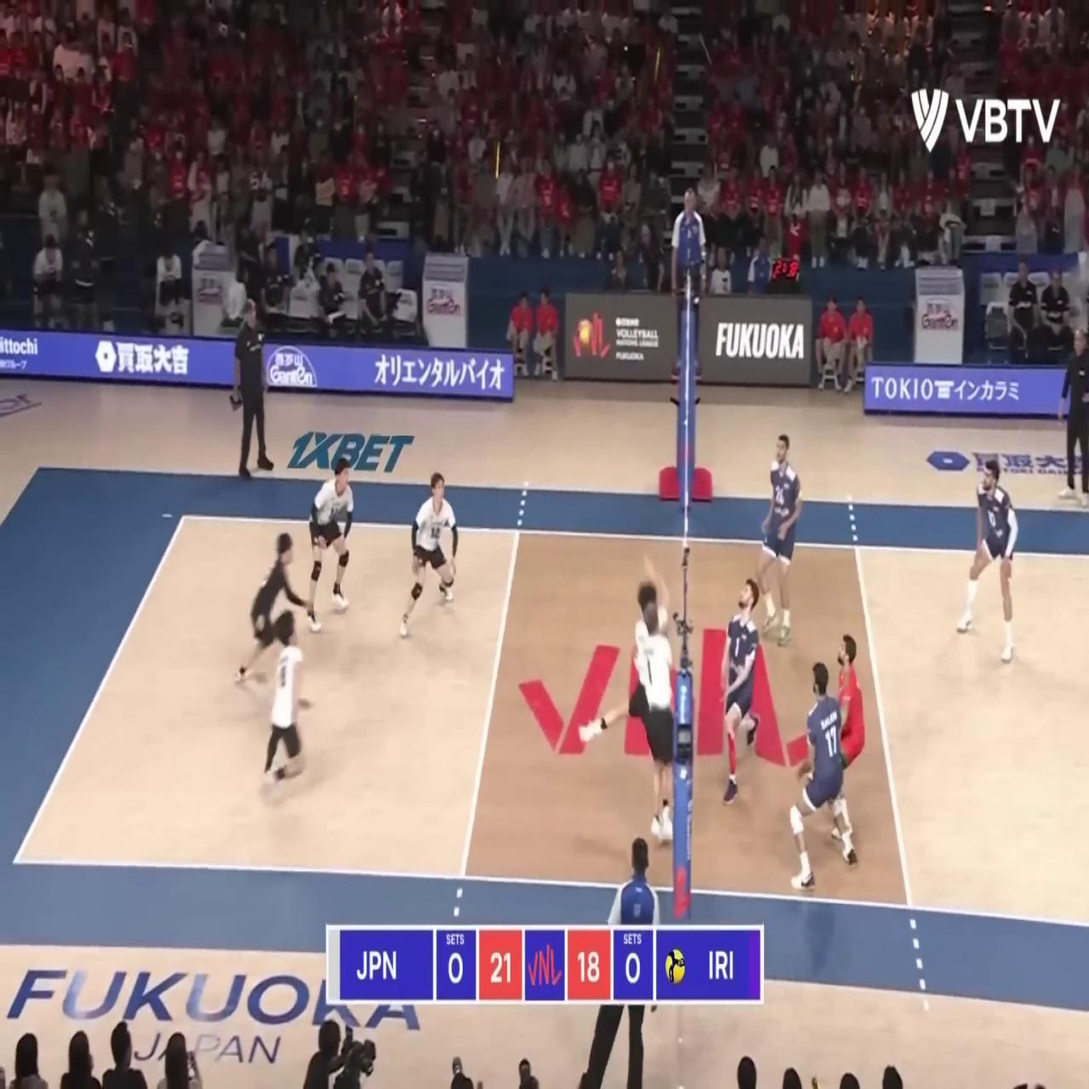ball: (578, 316, 593, 345)
